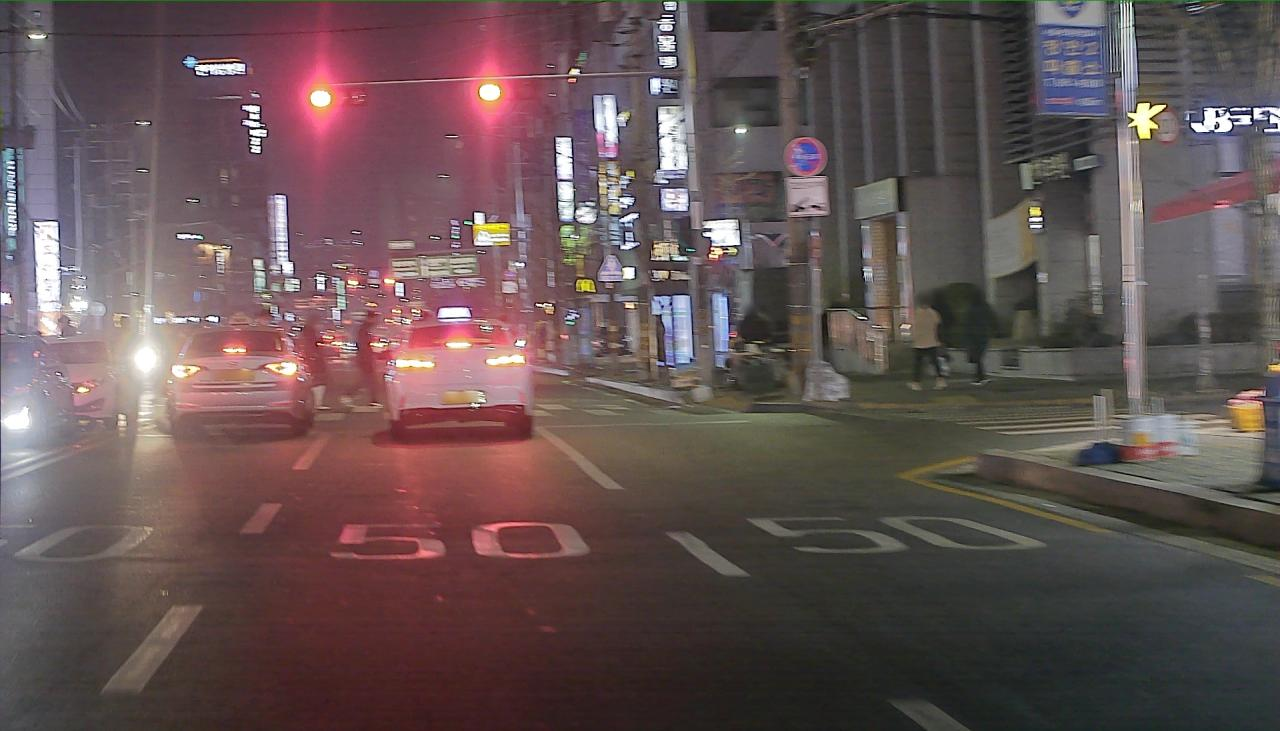Red Light: (478, 82, 501, 102), (310, 88, 332, 108)
